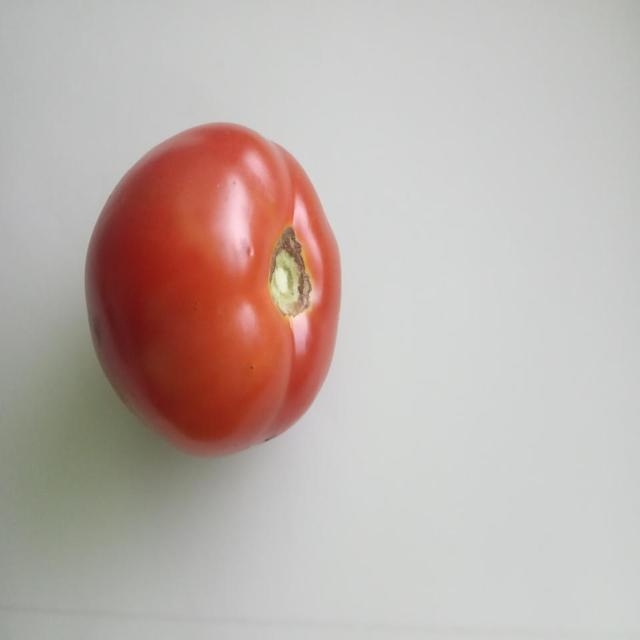Healthy Fruit: (56, 80, 229, 307)
